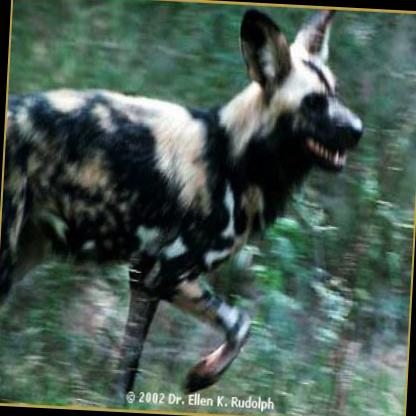African_hunting_dog: (0, 0, 370, 414)
